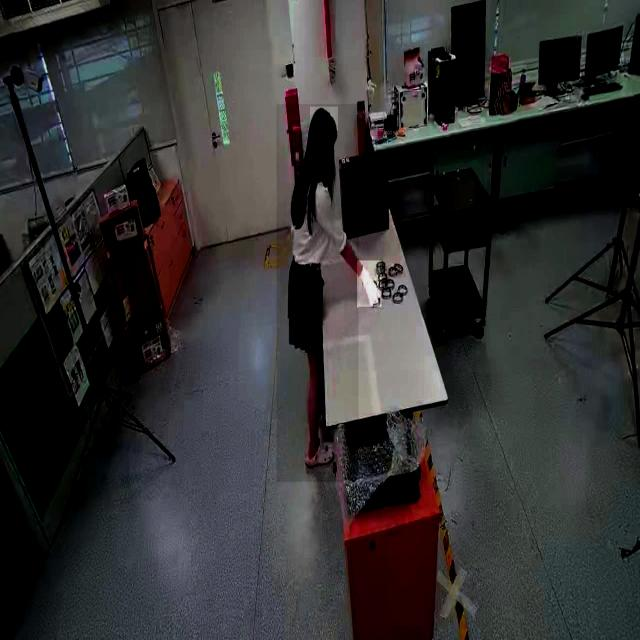hand_glove: (357, 260, 381, 308)
head_nohelmet: (310, 106, 338, 132)
person: (276, 104, 358, 483)
